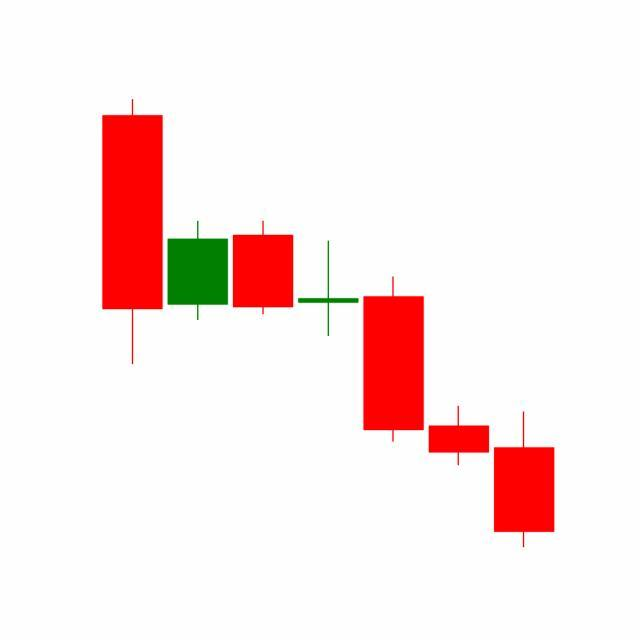Three Outside Up-Down: (295, 238, 492, 469)
